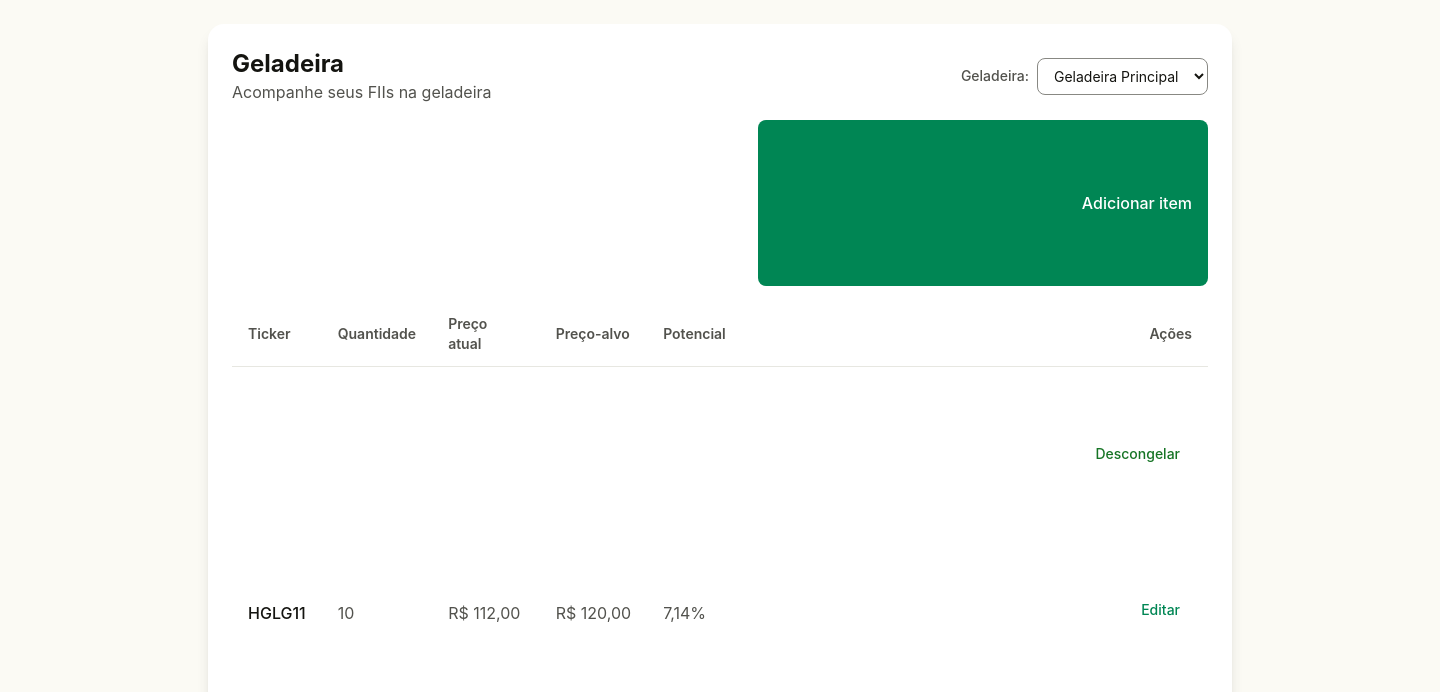
it: FridgeComponent › deve abrir formulário preenchido ao clicar em editar
This screenshot has width=1440, height=692.
Click the button with test id "btn-editar-item-0": (1009,610) top-left (837, 535), bottom-right (1180, 685)
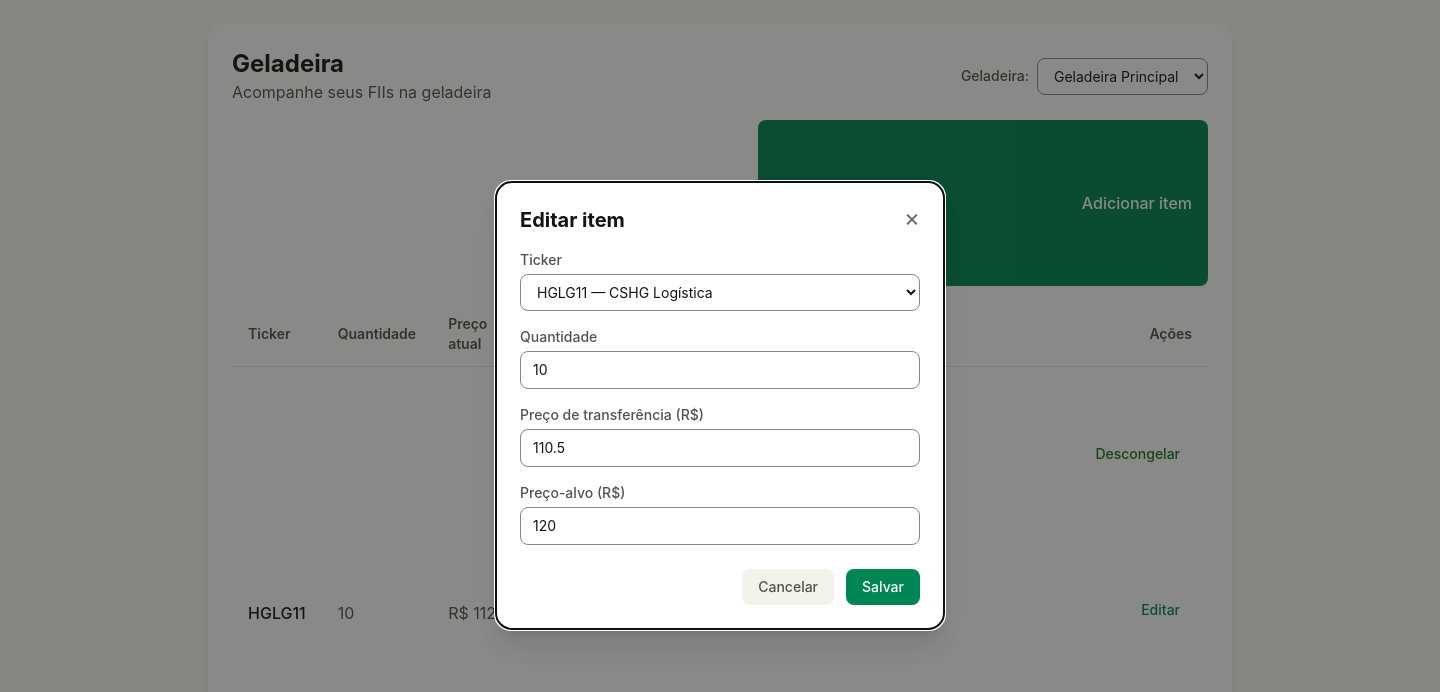
Now the dropdown with id "item-ticker" shows "HGLG11 — CSHG Logística", box top-left (520, 274), bottom-right (920, 310)
